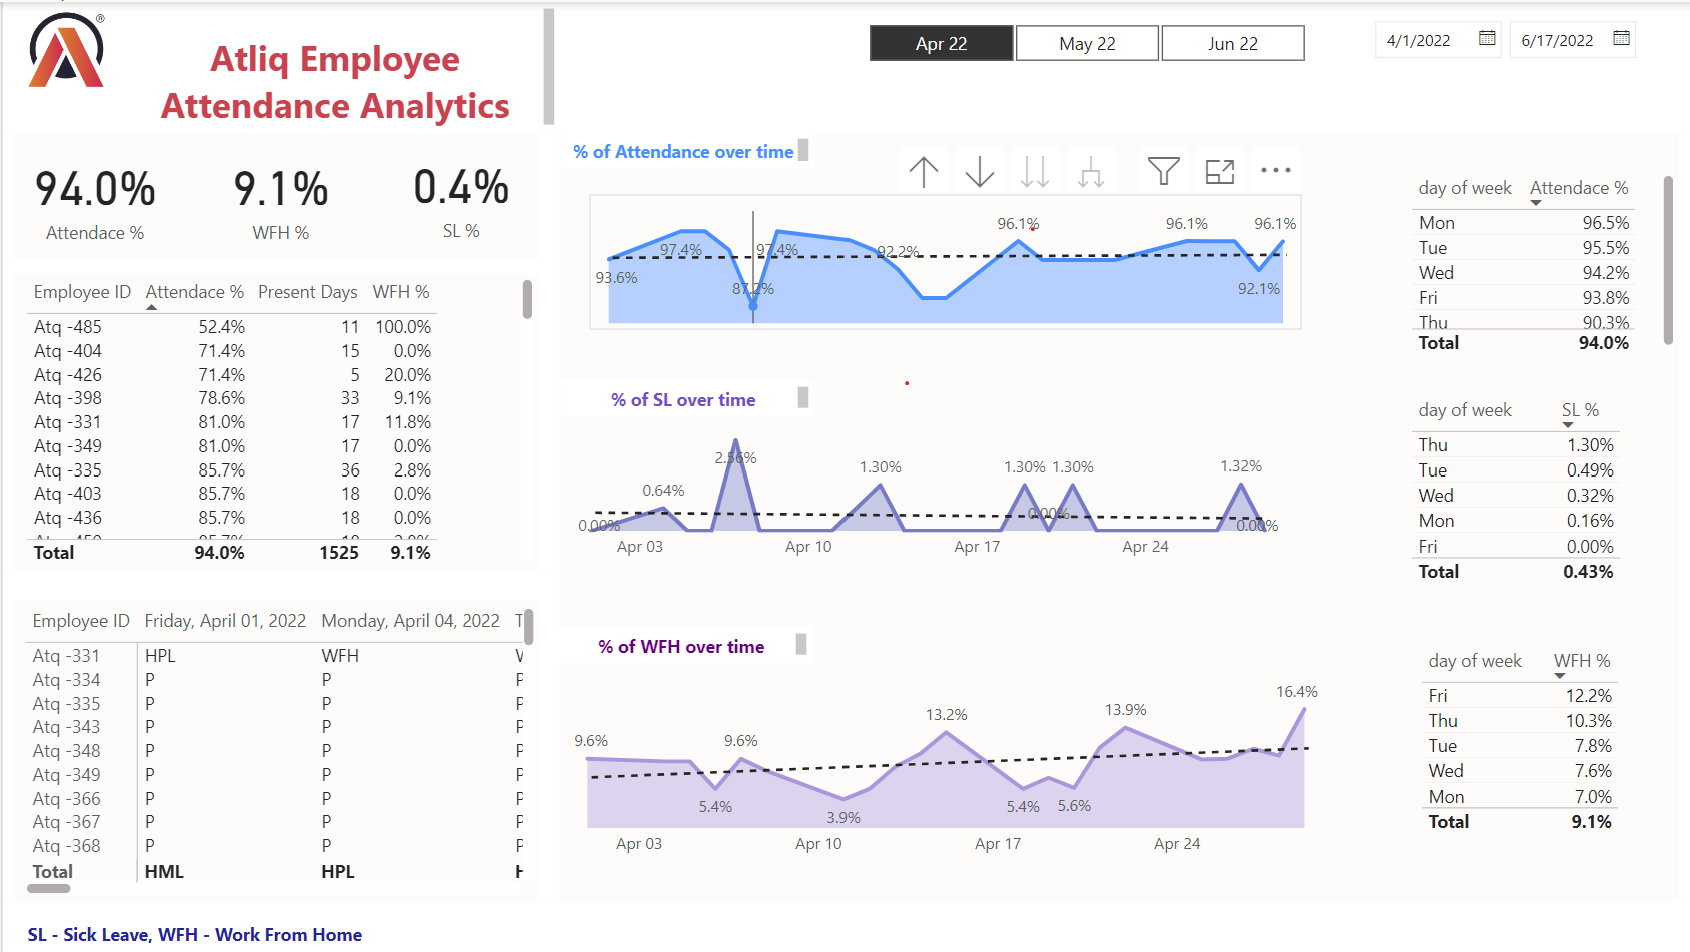

The dashboard page shown, as its layout file describes it:
{"tool":"powerbi","page":{"name":"Presence Insights","canvas":[1280,720],"ordinal":0},"visuals":[{"type":"textbox","box":[7.8,205.6,399.9,225.5],"z":0},{"type":"textbox","box":[7.8,453.3,399.8,227.6],"z":1000},{"type":"textbox","box":[422.3,97.9,848.1,582.3],"z":2000},{"type":"textbox","box":[7.8,98,399.9,95.4],"z":3000},{"type":"tableEx","fields":{"Values":["Final Data.Employee ID","Measures (2).Attendace %","Measures (2).Present Days","Measures (2).WFH %"]},"box":[12.6,205.2,394.9,225.7],"z":4000},{"type":"slicer","fields":{"Values":["Final Data.Date"]},"box":[1027.3,5.2,252.7,46.3],"z":5000},{"type":"slicer","fields":{"Values":["Final Data.MMM YY"]},"box":[630.4,10.5,379.5,35.8],"z":6000},{"type":"areaChart","fields":{"Category":["Final Data.MMM YY","Final Data.Date"],"Y":["Measures (2).WFH %"]},"box":[420.7,502.3,589,153.5],"z":7000},{"type":"areaChart","fields":{"Category":["Final Data.WeekNo","Final Data.Date"],"Y":["Measures (2).Attendace %"]},"box":[444.1,144.9,540.4,103.2],"z":8000},{"type":"card","fields":{"Values":["Measures (2).Attendace %"]},"box":[7.8,98,124,96.3],"z":9000},{"type":"card","fields":{"Values":["Measures (2).WFH %"]},"box":[141.4,98,138.8,96.3],"z":10000},{"type":"areaChart","fields":{"Category":["Final Data.MMM YY","Final Data.Date"],"Y":["Measures (2).SL %"]},"box":[422.5,307.1,556,124],"z":11000},{"type":"image","box":[13.6,0,69.8,71.3],"z":12000},{"type":"card","fields":{"Values":["Measures (2).SL %"]},"box":[286.3,97.2,121.4,96.3],"z":13000},{"type":"textbox","box":[88,0,335.2,98.6],"z":14000},{"type":"textbox","box":[422.4,98.2,192.5,27.5],"z":15000},{"type":"textbox","box":[422.5,286.3,192.6,26.9],"z":16000},{"type":"textbox","box":[422.1,473.7,192.6,27.2],"z":17000},{"type":"pivotTable","fields":{"Rows":["Final Data.Employee ID"],"Columns":["Final Data.Date"],"Values":["Min(Final Data.Value)"]},"box":[11.7,453.3,395.9,227.6],"z":18000},{"type":"textbox","box":[13.6,691.6,289.8,28.2],"z":19000},{"type":"tableEx","fields":{"Values":["Final Data.day of week","Measures (2).Attendace %"]},"box":[1060.9,125.8,209.9,145.7],"z":20000},{"type":"tableEx","fields":{"Values":["Final Data.day of week","Measures (2).SL %"]},"box":[1060.9,294.1,191.7,167.4],"z":21000},{"type":"tableEx","fields":{"Values":["Final Data.day of week","Measures (2).WFH %"]},"box":[1068.7,483.2,170,167.4],"z":22000}]}

Visuals, with their boxes in screenshot pixels (x1, y1, x2, y2), scaled from the page's 1280x720 canvas onto the 1690x952 screenshot:
textbox: BBox(10, 272, 538, 570)
textbox: BBox(10, 599, 538, 900)
textbox: BBox(558, 129, 1677, 899)
textbox: BBox(10, 130, 538, 256)
tableEx - Final Data.Employee ID x Measures (2).Attendace %: BBox(17, 271, 538, 570)
slicer - Final Data.Date: BBox(1356, 7, 1689, 68)
slicer - Final Data.MMM YY: BBox(832, 14, 1333, 61)
areaChart - Final Data.MMM YY x Final Data.Date: BBox(555, 664, 1333, 867)
areaChart - Final Data.WeekNo x Final Data.Date: BBox(586, 192, 1300, 328)
card - Measures (2).Attendace %: BBox(10, 130, 174, 257)
card - Measures (2).WFH %: BBox(187, 130, 370, 257)
areaChart - Final Data.MMM YY x Final Data.Date: BBox(558, 406, 1292, 570)
image: BBox(18, 0, 110, 94)
card - Measures (2).SL %: BBox(378, 129, 538, 256)
textbox: BBox(116, 0, 559, 130)
textbox: BBox(558, 130, 812, 166)
textbox: BBox(558, 379, 812, 414)
textbox: BBox(557, 626, 812, 662)
pivotTable - Final Data.Employee ID x Final Data.Date: BBox(15, 599, 538, 900)
textbox: BBox(18, 914, 401, 951)
tableEx - Final Data.day of week x Measures (2).Attendace %: BBox(1401, 166, 1678, 359)
tableEx - Final Data.day of week x Measures (2).SL %: BBox(1401, 389, 1654, 610)
tableEx - Final Data.day of week x Measures (2).WFH %: BBox(1411, 639, 1635, 860)
